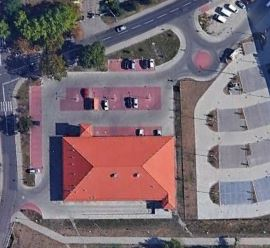shopping_center: (57, 121, 179, 212)
